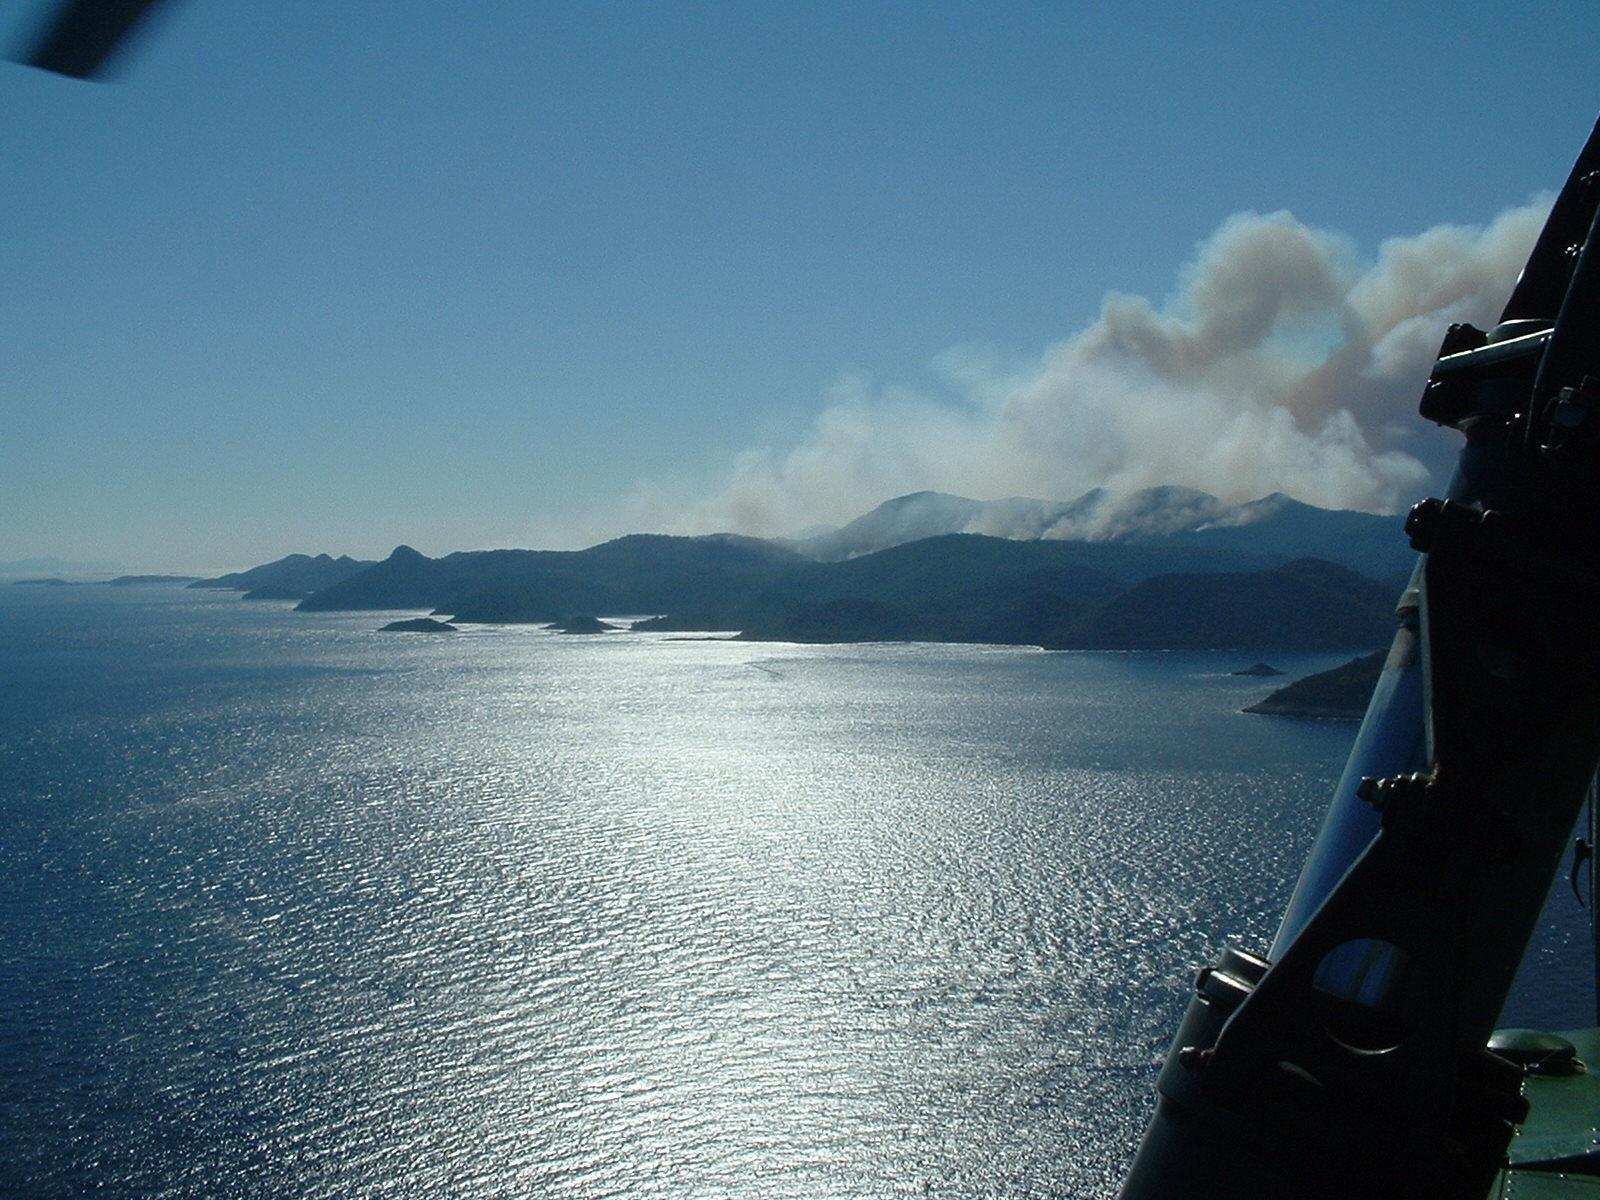Smoke: (675, 197, 1409, 534)
